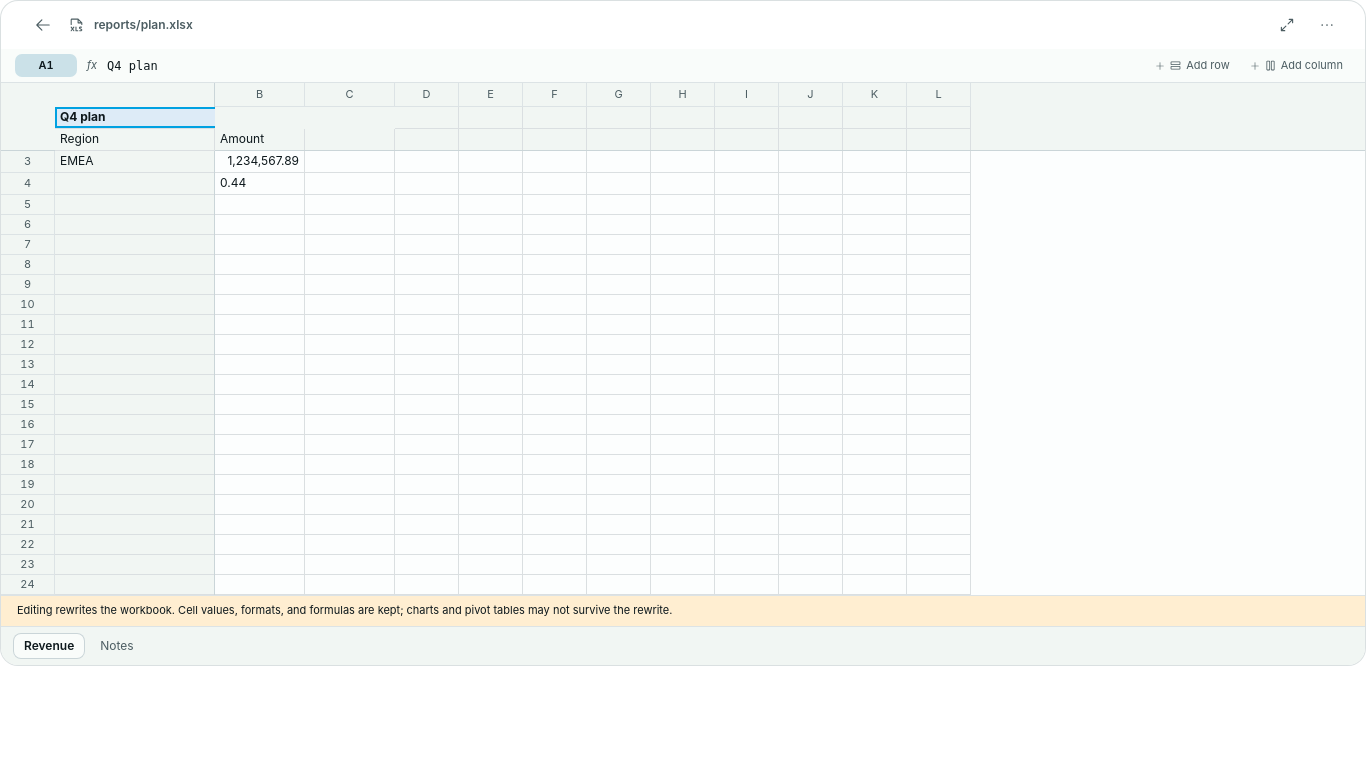
Test: workbook preview › shows the underlying formula rather than its result in the formula bar
Click the cell named "B4, 0.44" at x=260, y=184, box [215,173,305,195]
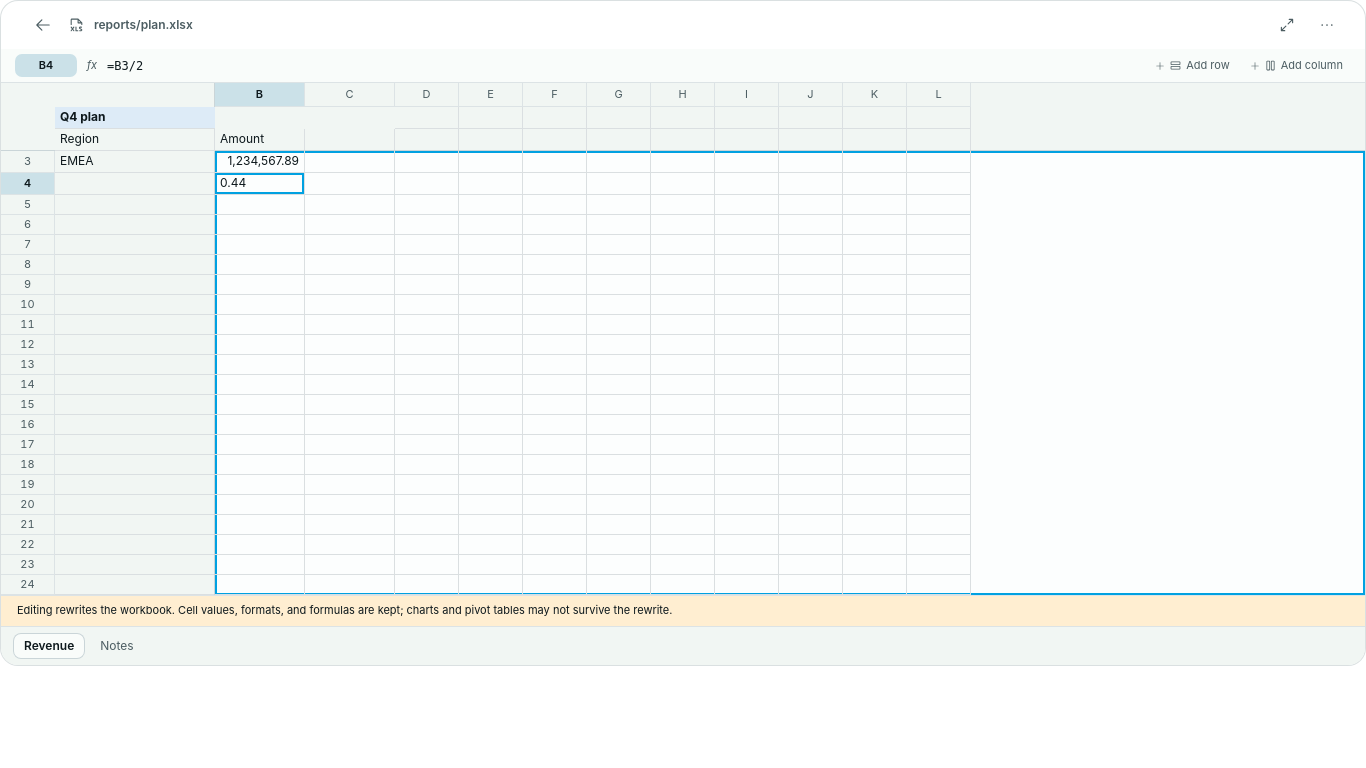
Expected: the text named "Selected cell" reads "B4", [39,58,53,72]
Expected: the field named "Cell contents" holds "=B3/2", [107,56,1137,74]
